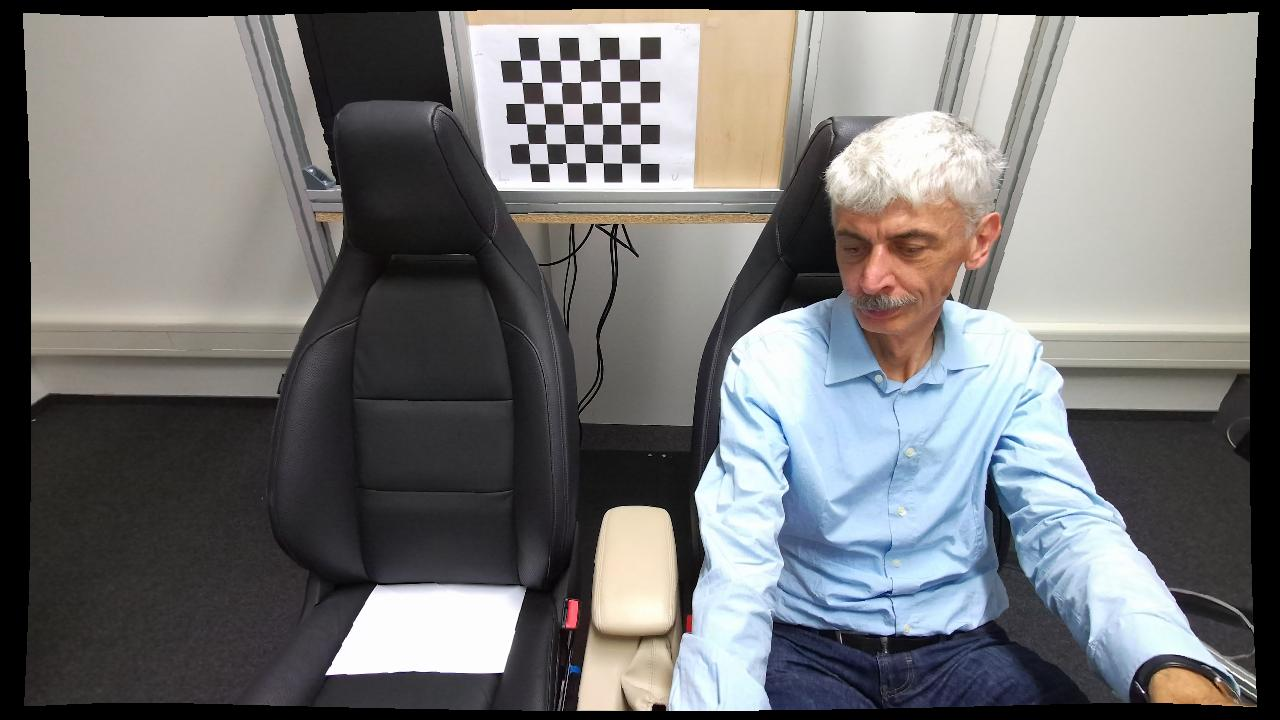Distracted: (669, 111, 1102, 711)
